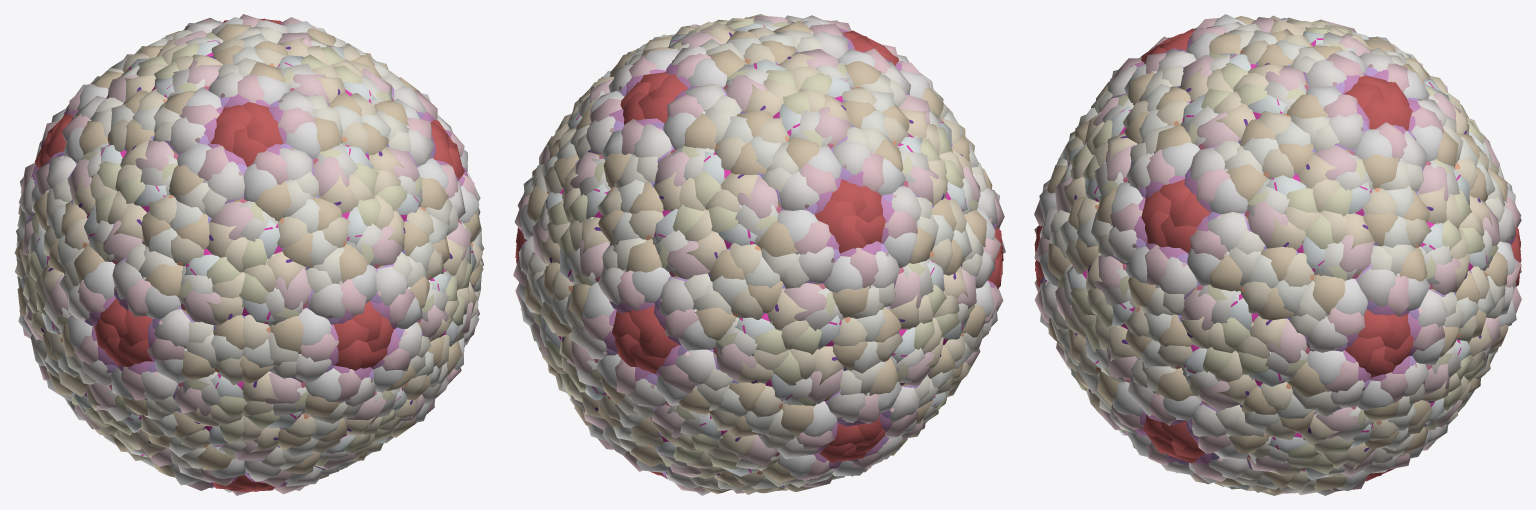
File: varicella_zoster_300_cleaned_draco.glb
3 renders of one model, left to right at view 1: azimuth 30°, elevation 25°; view 2: azimuth 150°, elevation 25°; view 3: azimuth 270°, elevation 25°, orthographic. The views are drawn at different scales.
Visible parts, largest first — view 1: Varicella-zoster.cif assembly 1_A Gaussian surface; view 2: Varicella-zoster.cif assembly 1_A Gaussian surface; view 3: Varicella-zoster.cif assembly 1_A Gaussian surface.
Part boxes in pixels (box(x1,y1,x2,y2)): Varicella-zoster.cif assembly 1_A Gaussian surface: box(14, 14, 484, 495); Varicella-zoster.cif assembly 1_A Gaussian surface: box(513, 14, 1005, 495); Varicella-zoster.cif assembly 1_A Gaussian surface: box(1034, 14, 1521, 495).
Size of the model in its own units: 1430 by 1428 by 1448.
